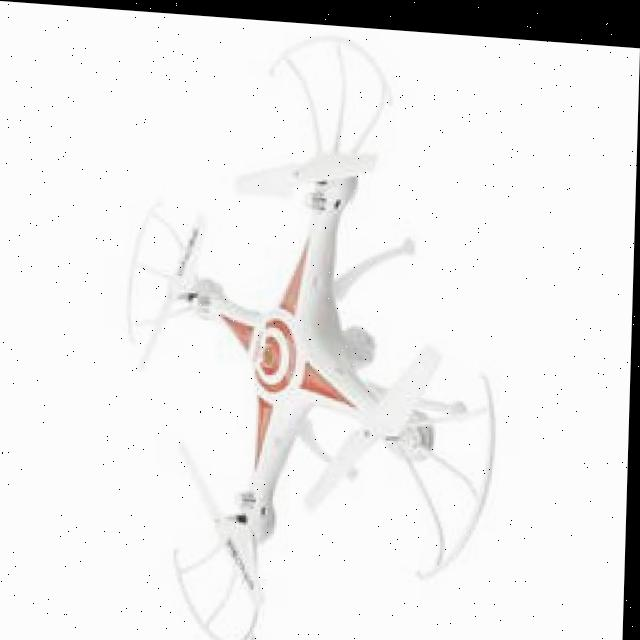drone: (125, 15, 488, 640)
